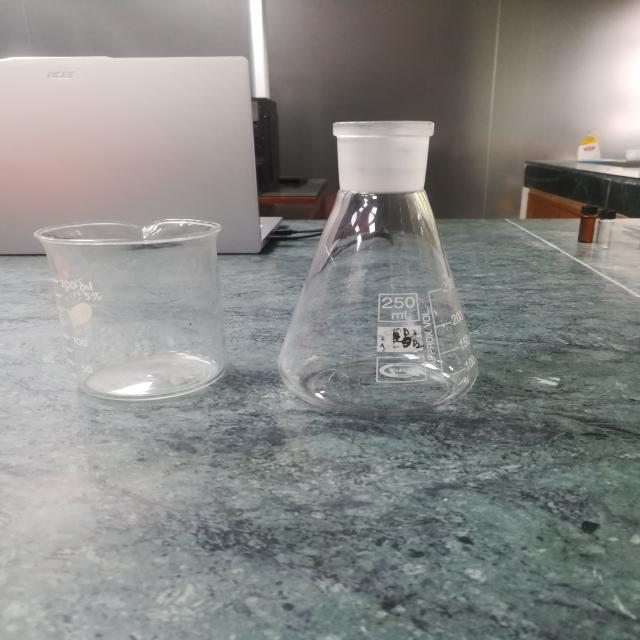Beaker: (16, 176, 248, 424)
Conical_Flask: (267, 86, 514, 427)
